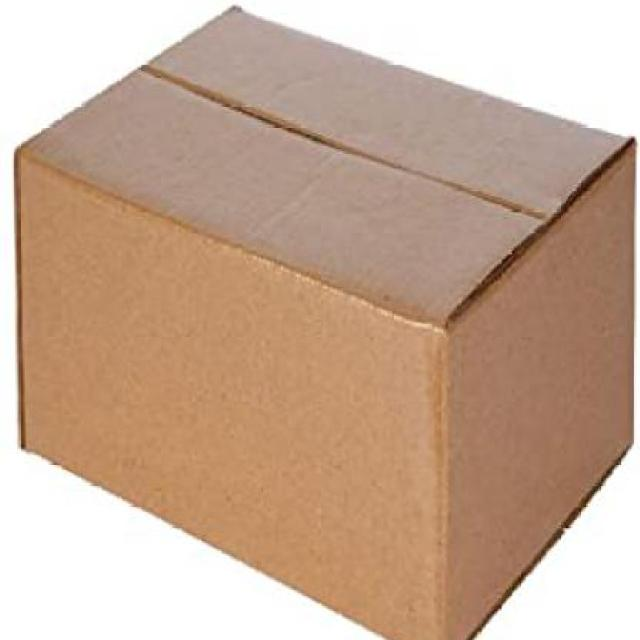box: (11, 6, 637, 640)
